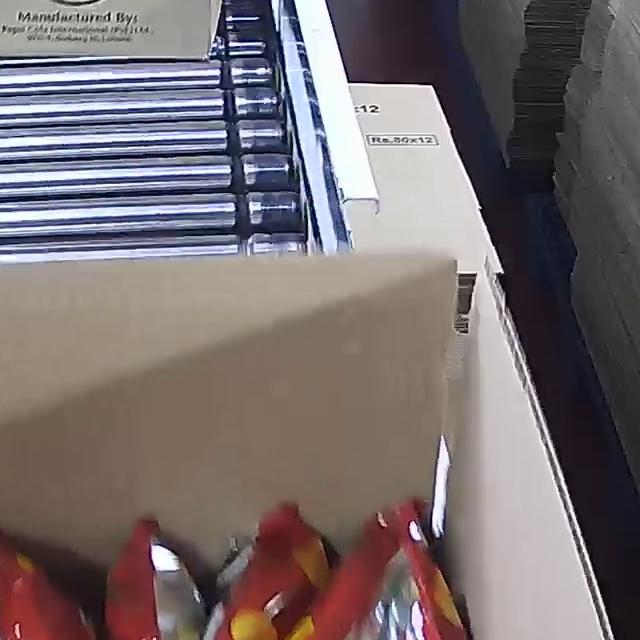masala: (0, 495, 514, 640)
